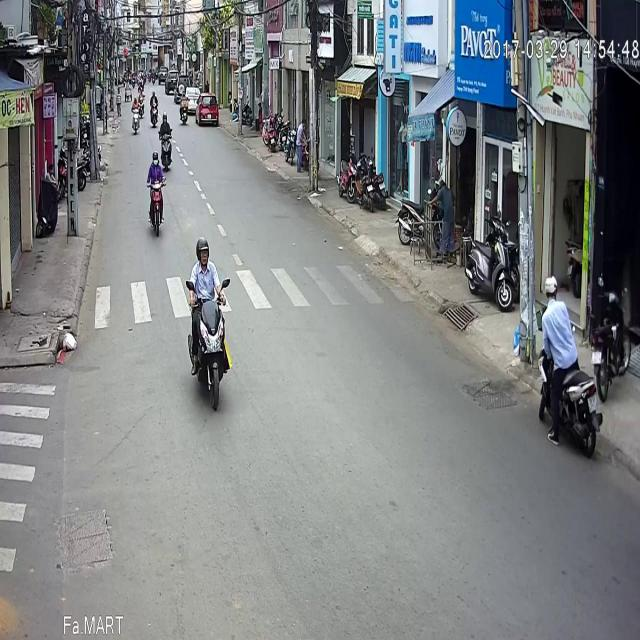car: (195, 34, 219, 66)
motorcycle: (537, 218, 603, 399), (185, 179, 230, 352), (146, 92, 166, 178), (157, 53, 173, 114), (130, 38, 140, 78), (149, 33, 159, 70)
